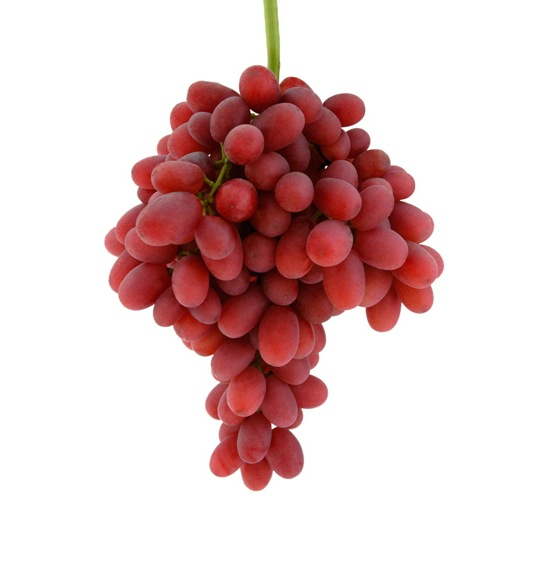Red Grapes: (121, 76, 426, 493)
